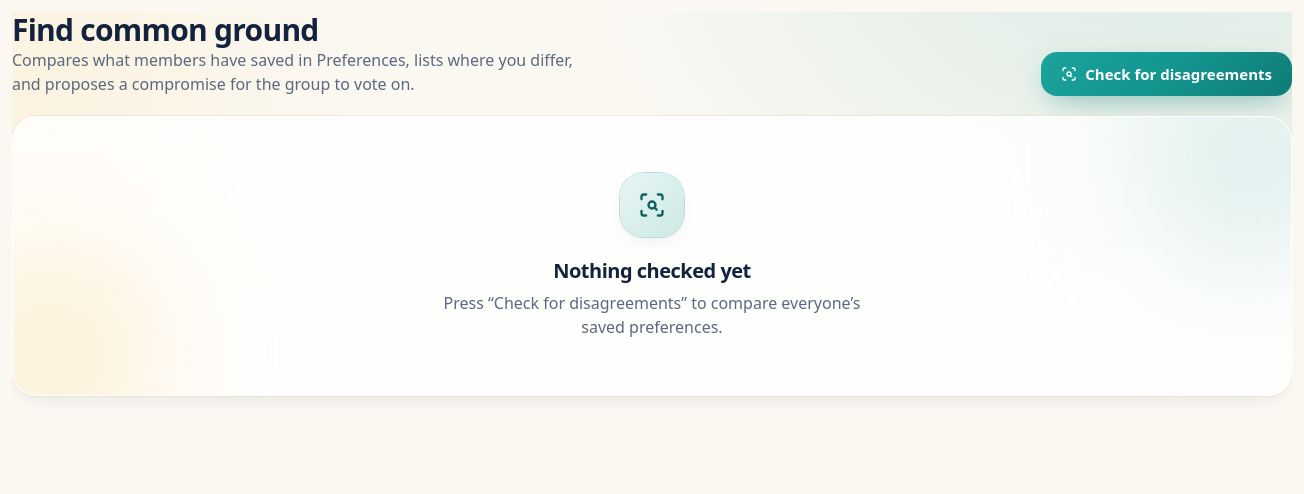
Test: Conflicts page › shows a vote after analysing (no stale result)
Click the button "Check for disagreements": (1167, 74) [1041,52,1292,96]
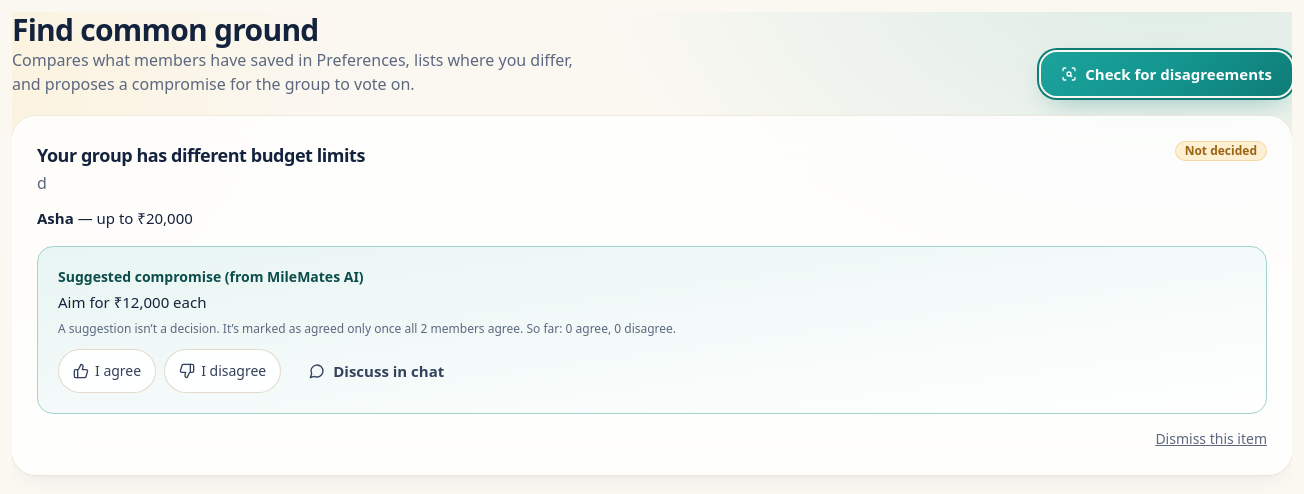
Now the text "0 agree, 0 disagree" is shown, box [58,320,676,337]
Click the button "I agree": (107, 371) [58,349,156,393]
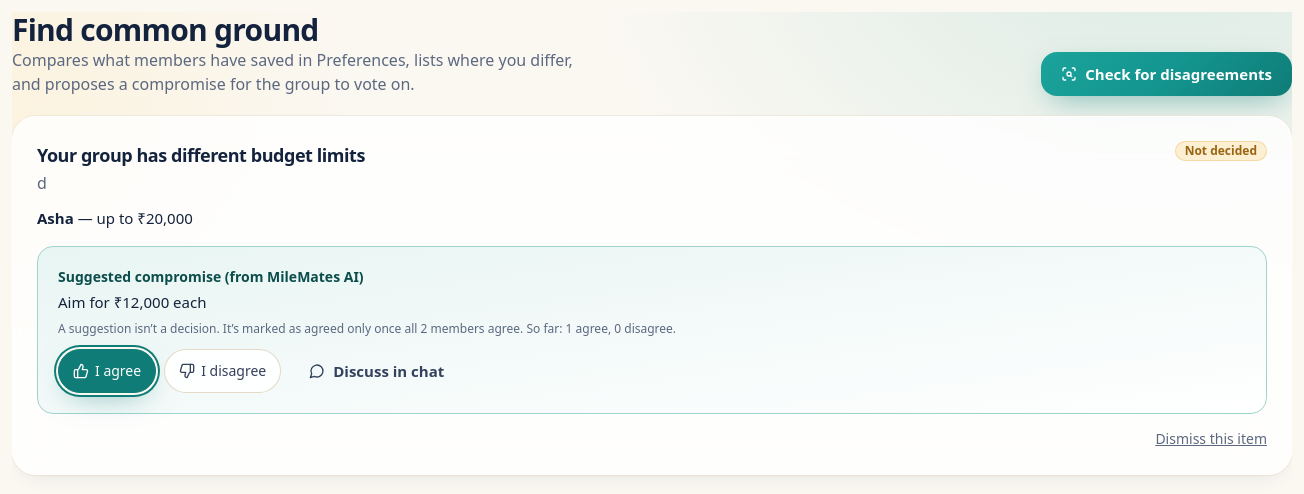
Now the text "1 agree, 0 disagree" is shown, box [58,320,676,337]
